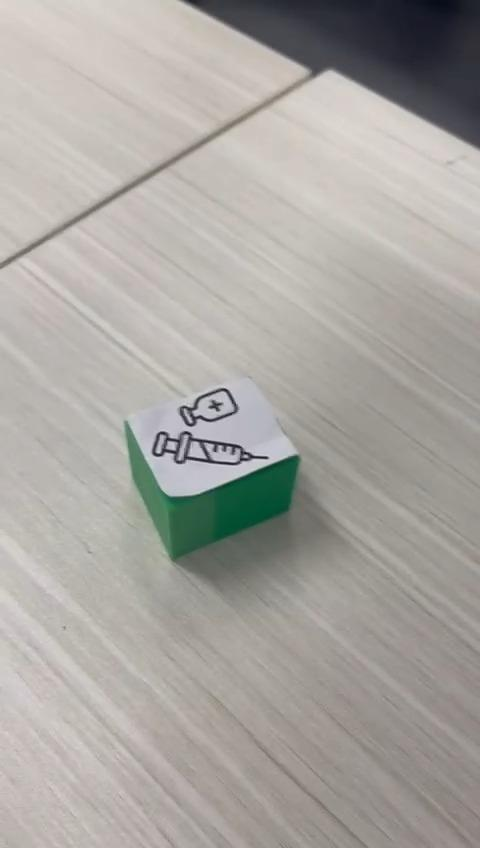antiseptic cream: (122, 374, 301, 561)
